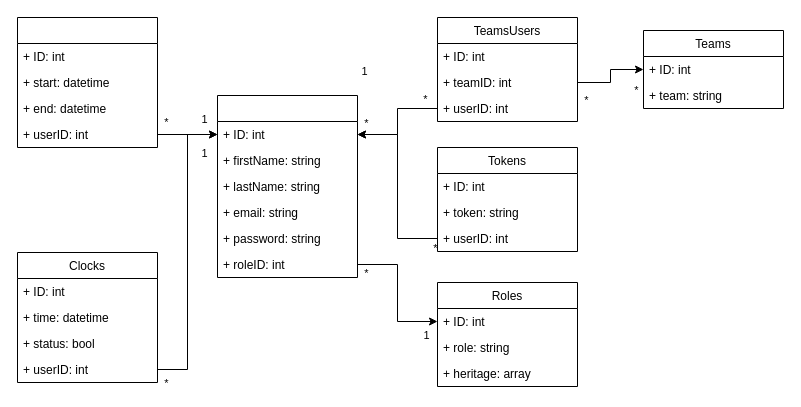
The diagram is 801 pixels wide and 407 high, and some of its shapes have lost their labels. The box of each missing label's shape, as (x1, y1, x2, y2) in pixels:
Users: (216, 94, 358, 278)
WorkingTimes: (16, 16, 158, 148)
